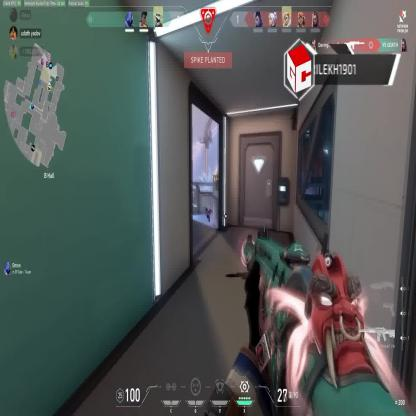enemy: (206, 204, 212, 222)
enemy_head: (207, 204, 209, 210)
